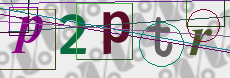2: (57, 13, 88, 55)
p: (8, 13, 45, 56), (99, 9, 132, 56)
r: (186, 27, 214, 57)
t: (144, 14, 177, 59)
